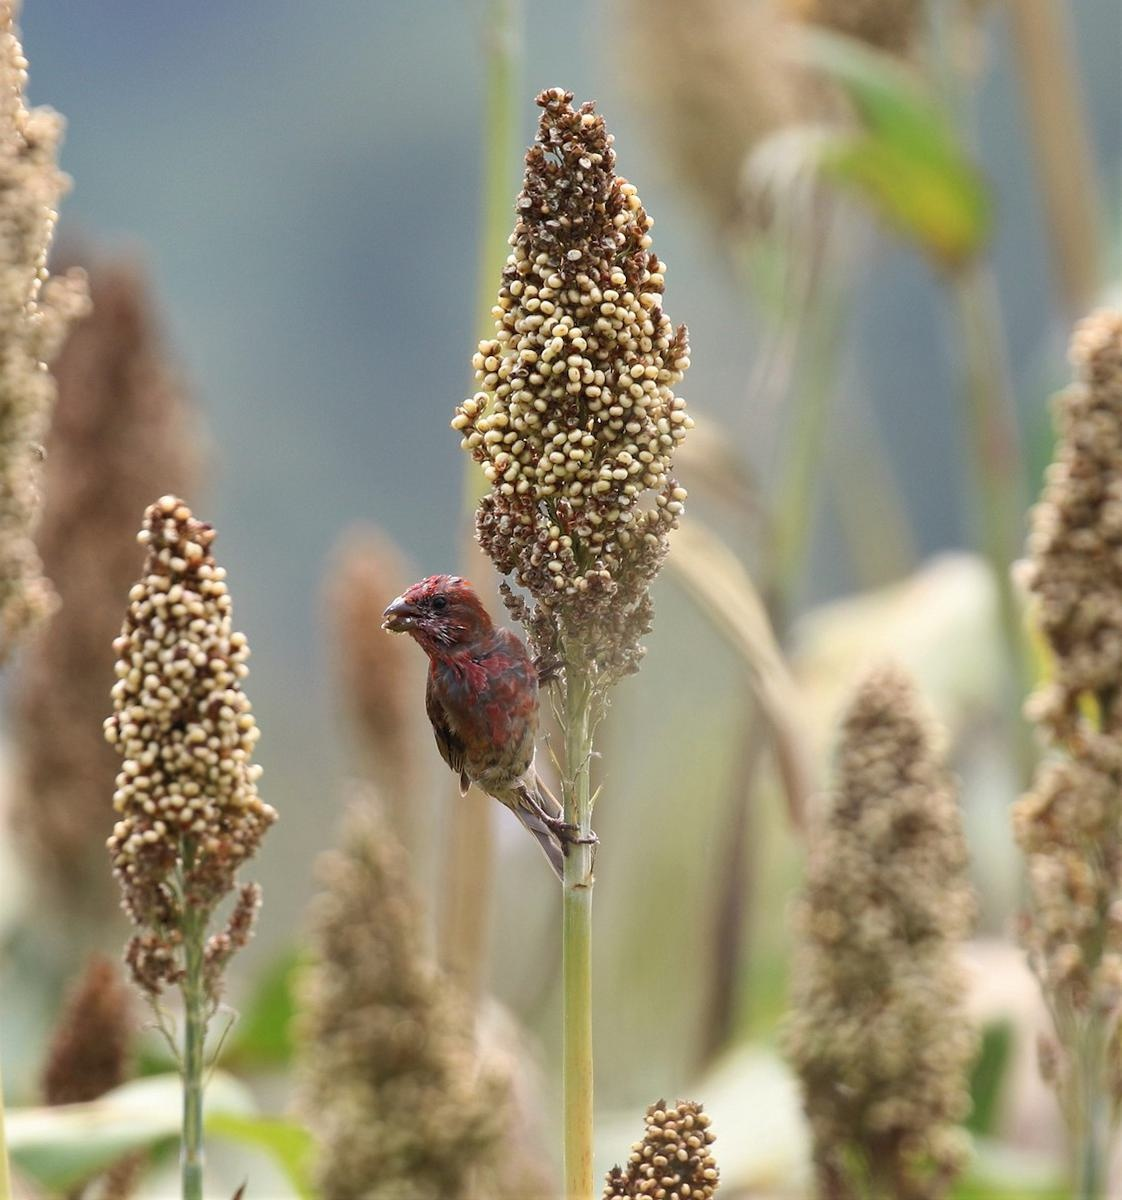rosefinch: (357, 556, 626, 857)
